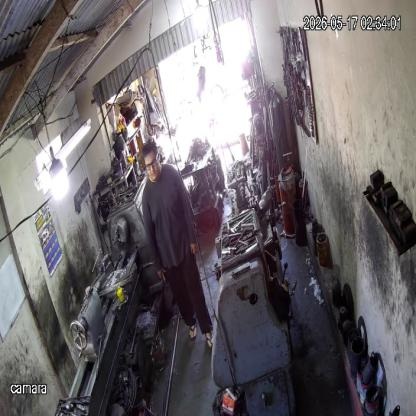lentes: (144, 157, 159, 170)
